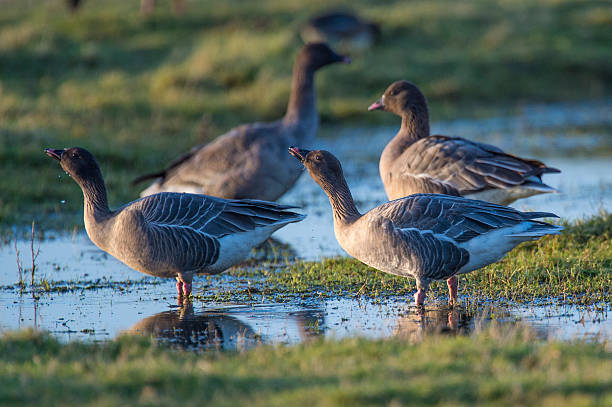goose: (40, 145, 303, 322), (288, 143, 559, 312), (143, 41, 354, 210), (366, 80, 562, 217)
